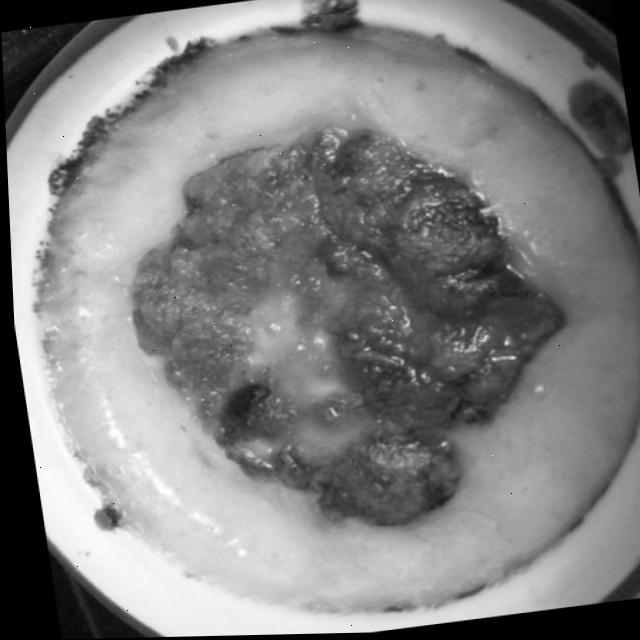米饭主食: (27, 0, 640, 614)
